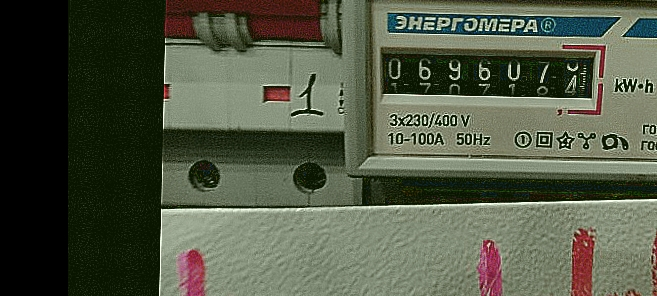0: (386, 55, 403, 80), (506, 56, 521, 81)
4: (562, 72, 579, 97)
6: (476, 56, 493, 81), (416, 56, 433, 80)
7: (536, 59, 551, 85)
9: (446, 57, 462, 81)
screen: (366, 33, 610, 112)
